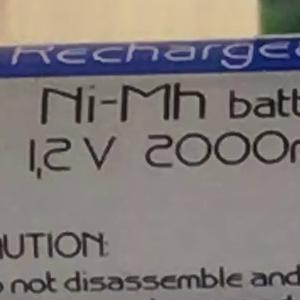keyword: (31, 47, 222, 135)
